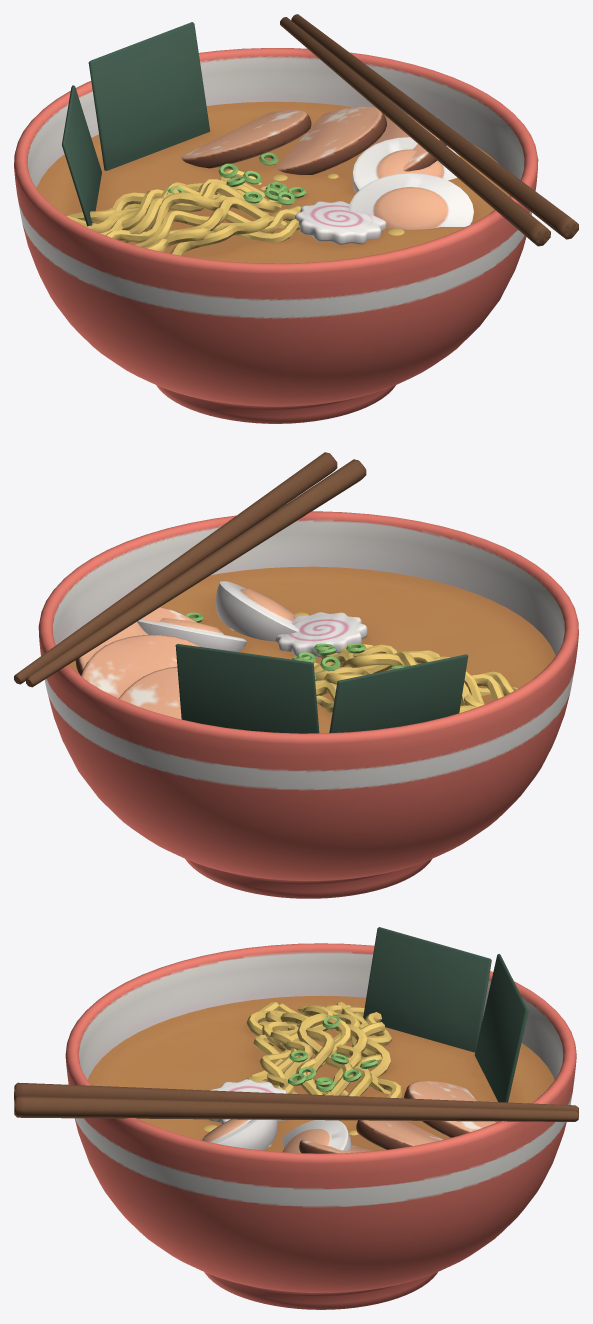
File: ramen-bowl.glb
3 renders of one model, top to bottom at view 1: azimuth 30°, elevation 25°; view 2: azimuth 150°, elevation 25°; view 3: azimuth 270°, elevation 25°, orthographic. The views are drawn at different scales.
Parts seen in each view (by area): view 1: ramen-bowl_body; view 2: ramen-bowl_body; view 3: ramen-bowl_body.
Part boxes in pixels (bbox=[...]): ramen-bowl_body: bbox=[14, 14, 578, 423]; ramen-bowl_body: bbox=[14, 452, 578, 898]; ramen-bowl_body: bbox=[14, 927, 578, 1309].
Size of the model in its own units: 0.2084 by 0.1178 by 0.2303.
1 material, 1 textured.
